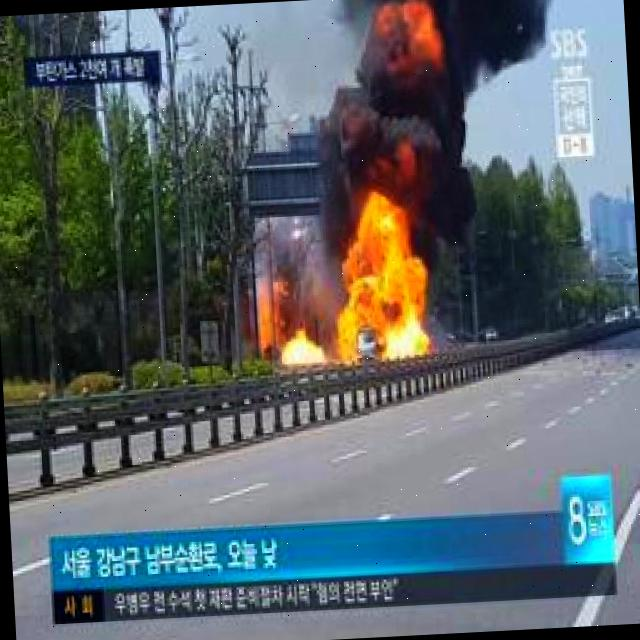fire: (338, 208, 433, 362), (282, 328, 328, 366), (260, 281, 272, 345)
